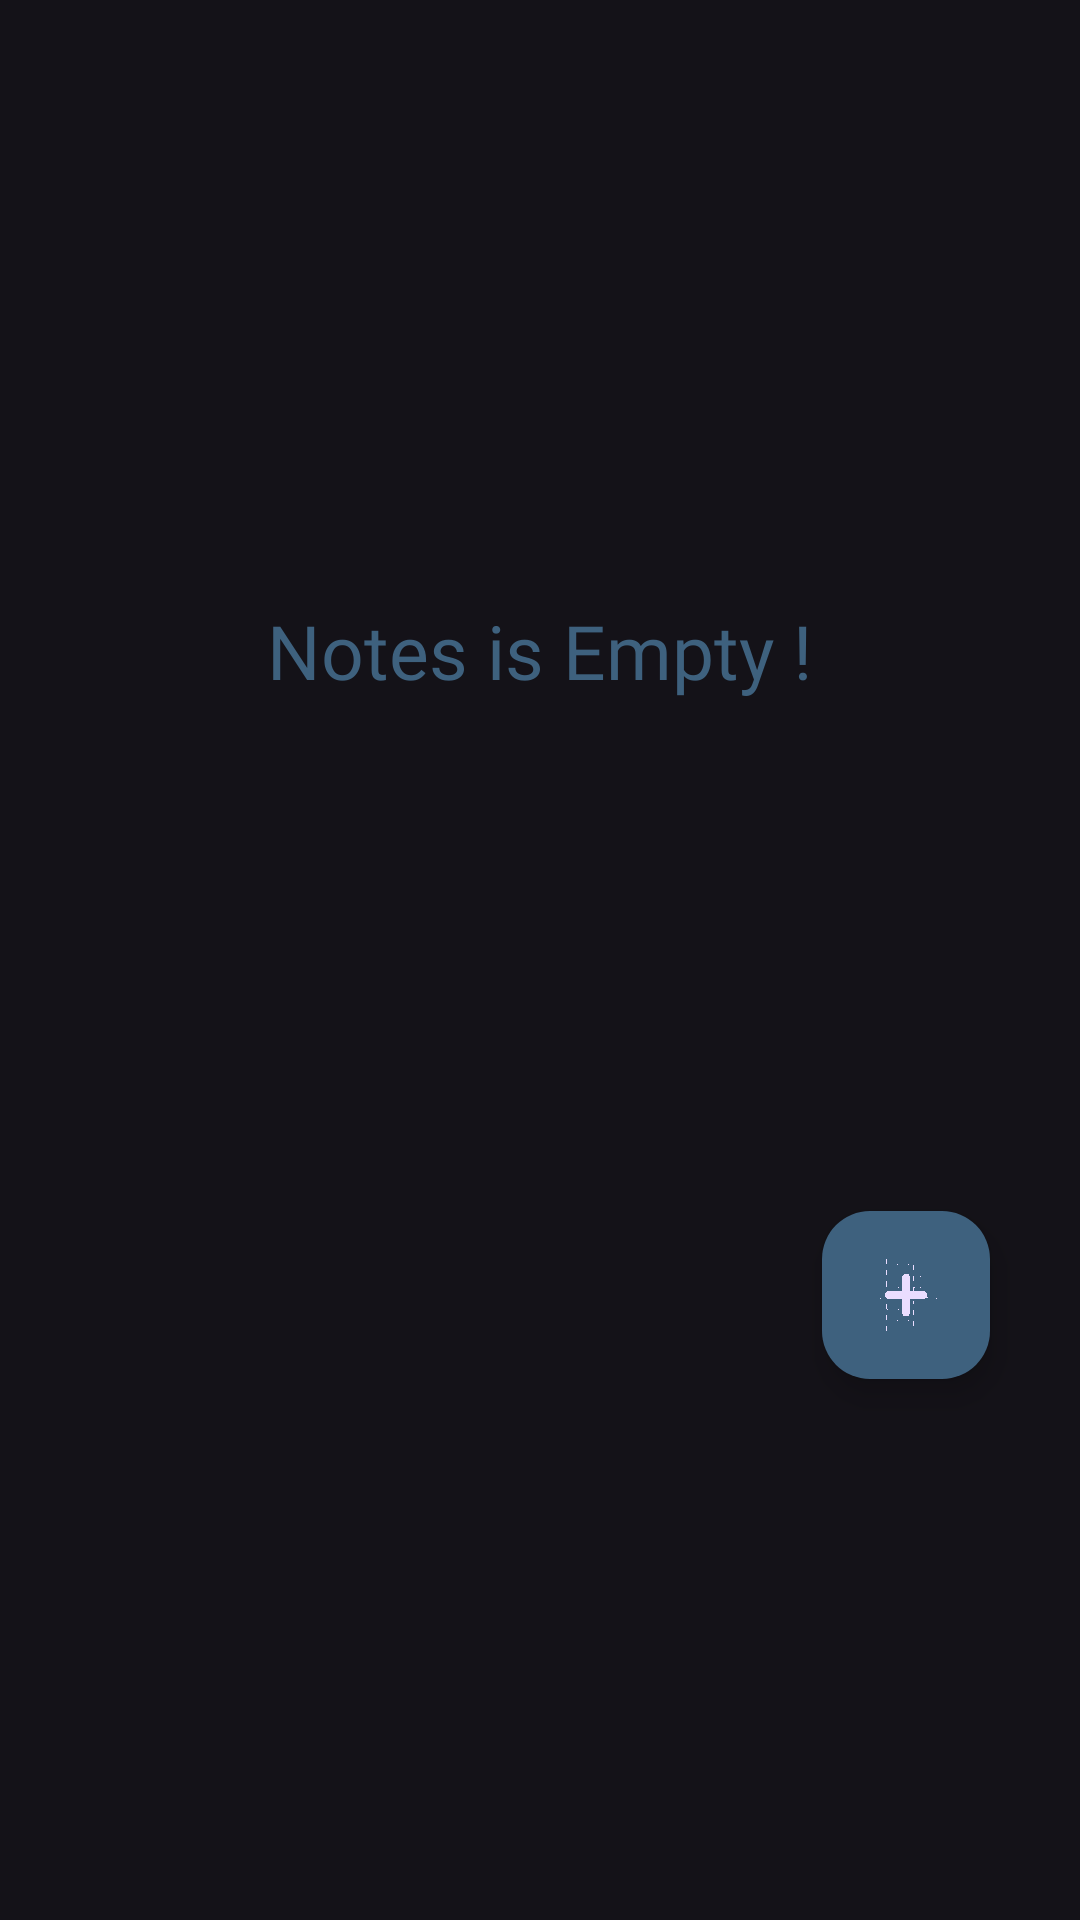

Where icons sit on this 1080px x 1920px app screen, as detection(x1, y1, x2, y2):
add: detection(822, 1211, 990, 1379)
